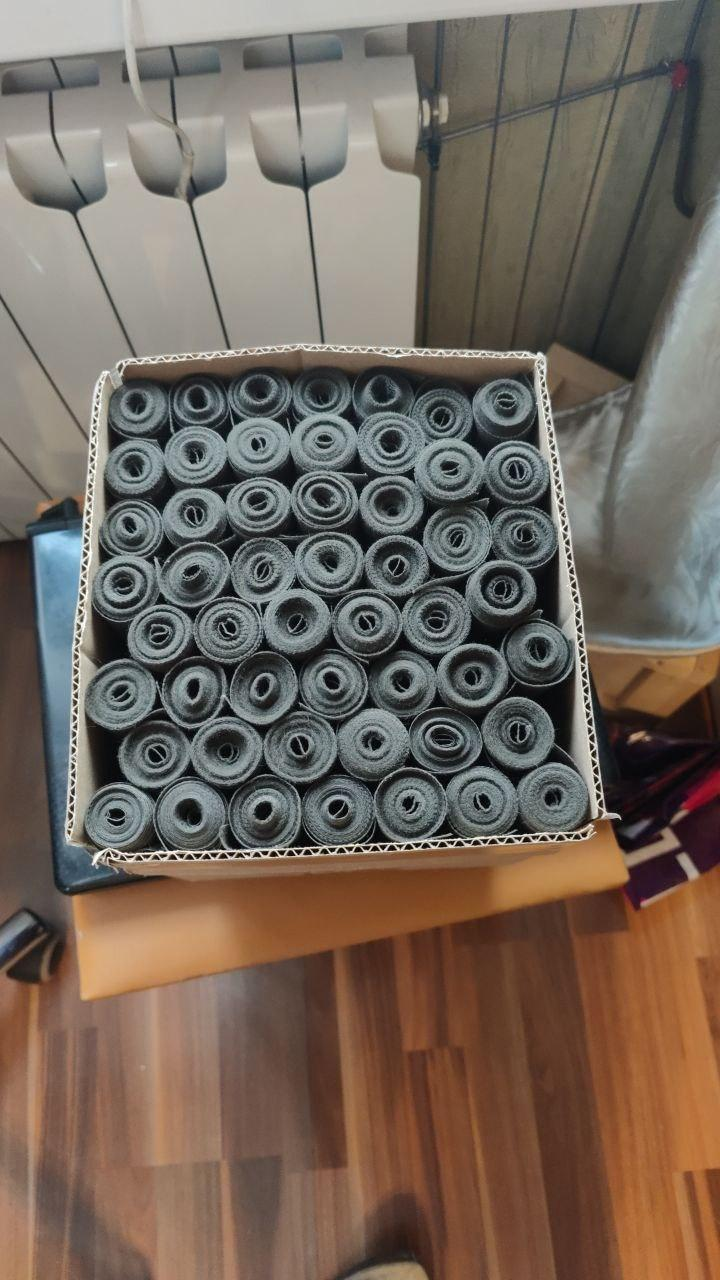roll: (479, 695, 558, 775), (151, 775, 230, 854), (298, 772, 377, 850), (225, 773, 303, 852), (261, 710, 341, 787), (371, 766, 449, 844), (82, 656, 161, 733), (514, 760, 593, 837), (334, 706, 411, 784), (463, 556, 541, 633), (434, 641, 513, 717), (442, 765, 519, 842), (114, 716, 192, 792), (226, 650, 301, 727), (405, 703, 483, 777), (420, 502, 496, 577), (500, 617, 575, 692), (188, 714, 265, 787), (89, 554, 160, 633), (399, 584, 474, 658), (412, 435, 488, 508), (328, 588, 404, 661), (295, 646, 369, 720), (365, 648, 439, 722), (81, 781, 156, 854), (470, 376, 540, 453), (259, 587, 333, 659), (158, 656, 230, 730), (156, 541, 231, 612), (480, 439, 553, 511), (190, 594, 263, 666), (487, 503, 560, 574), (227, 535, 298, 607), (288, 468, 361, 538), (356, 474, 427, 545), (292, 530, 365, 599), (159, 483, 231, 552), (123, 600, 192, 672), (354, 409, 424, 479), (223, 414, 293, 484), (362, 532, 432, 601), (222, 474, 293, 542), (101, 436, 169, 507), (289, 413, 361, 480), (161, 424, 230, 493), (98, 497, 165, 564), (106, 379, 171, 444), (407, 387, 475, 449), (350, 365, 416, 425), (228, 367, 292, 427), (291, 365, 355, 423), (169, 373, 231, 432)
